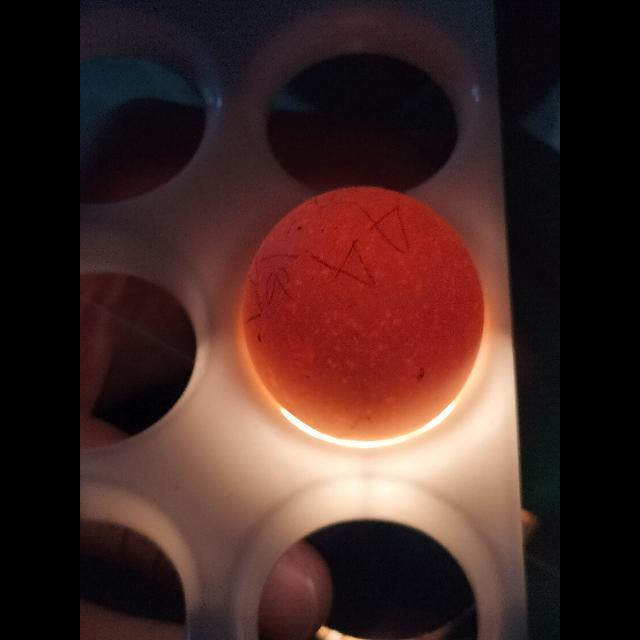Infertile: (240, 188, 484, 436)
